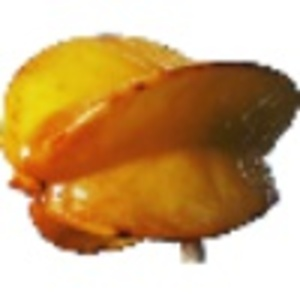carambola: (1, 32, 300, 266)
